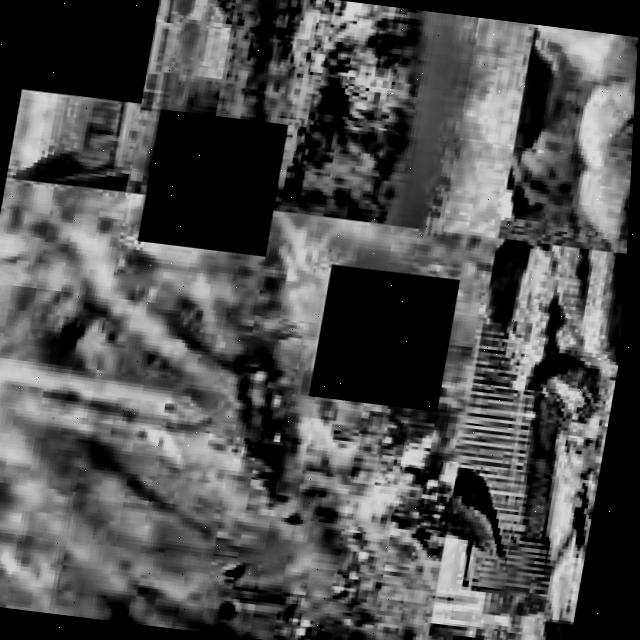buldozerpayloadergrader: (0, 177, 408, 443)
excavator: (7, 52, 241, 200), (432, 466, 603, 640)
